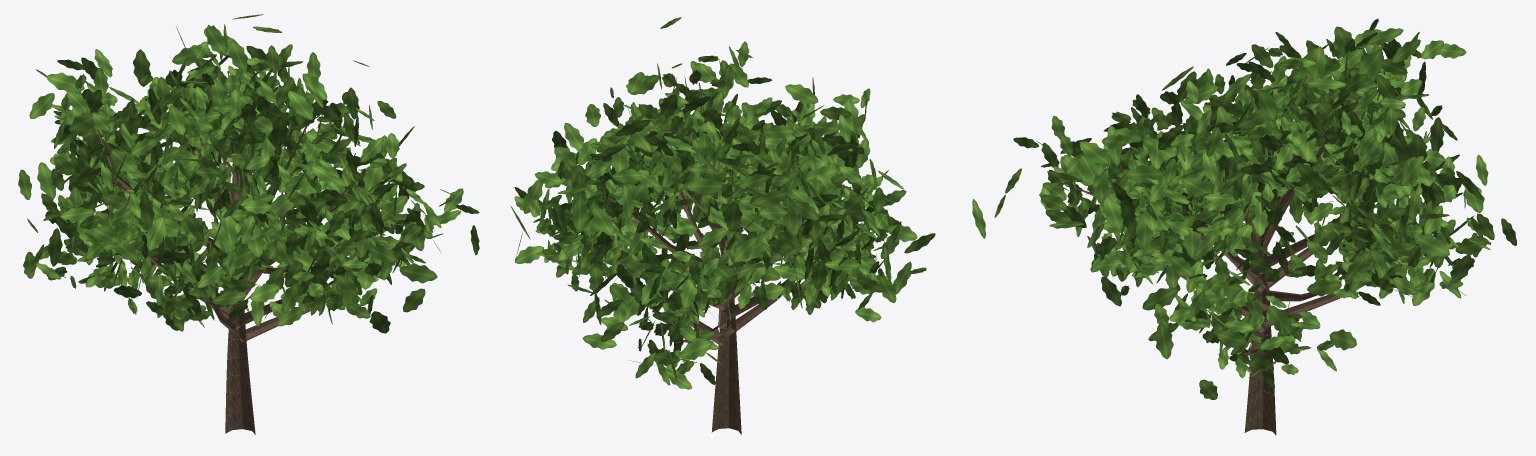
File: maple-detail.glb
3 views of the same model, side by side, from view 1: azimuth 30°, elevation 25°; view 2: azimuth 150°, elevation 25°; view 3: azimuth 270°, elevation 25° (orthographic). The views are drawn at different scales.
Parts seen in each view (by area): view 1: foliage, bark; view 2: foliage, bark; view 3: foliage, bark.
Boxes of the visible parts, box(x1,y1,x2,y2) form: foliage: box(18, 14, 479, 333); bark: box(96, 71, 400, 434); foliage: box(511, 17, 935, 389); bark: box(586, 83, 813, 434); foliage: box(972, 18, 1516, 399); bark: box(1076, 67, 1432, 435).
Bounding box in the file's own units: 11.74 × 9.93 × 12.57.
2 materials, 2 textured.
